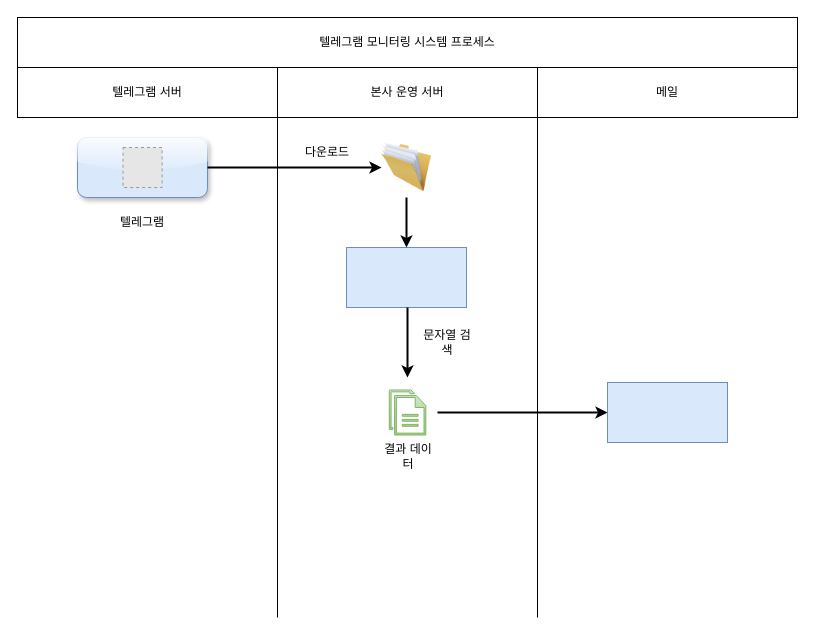
Image size: 815x636. Some labels were removed from this diagram. Grey dashed boxes stand in for pictures. Each missing label, with the centre of its shape:
"PM 메일" goes at (x=667, y=412).
"데이터 정리" goes at (x=406, y=277).
